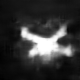plane: (19, 24, 76, 65)
